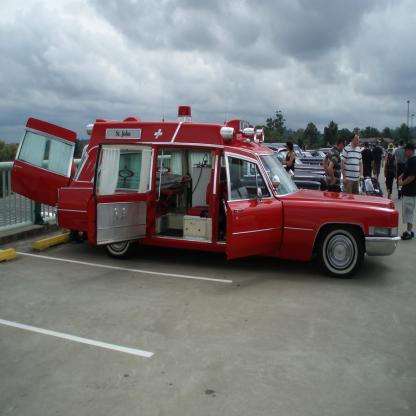Ambulance: (8, 104, 403, 277)
Car: (5, 84, 405, 316), (239, 140, 325, 191), (263, 144, 331, 192), (288, 143, 336, 168)
